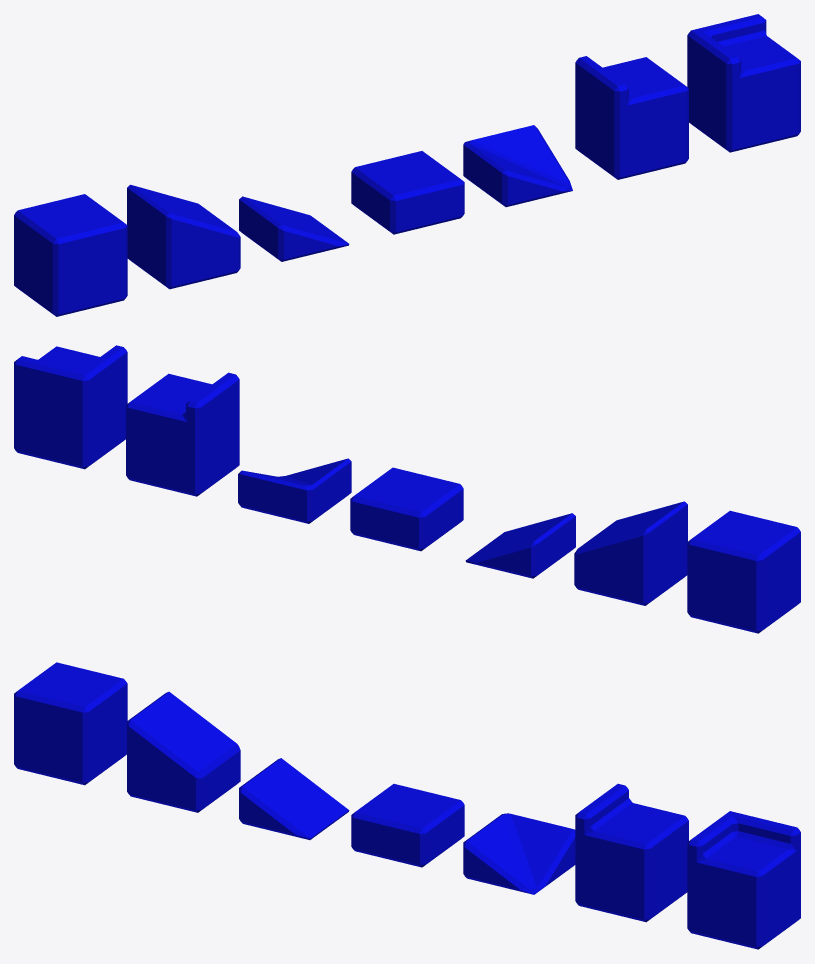
The model's file is worldblocks_v1.glb.
3 renders of one model, top to bottom at view 1: azimuth 30°, elevation 25°; view 2: azimuth 150°, elevation 25°; view 3: azimuth 330°, elevation 25°, orthographic.
Parts seen in each view (by area): view 1: BlockWallCorner, BlockWall, Block, RampTop, BlockShort, RampLowerCorner, RampBottom; view 2: BlockWallCorner, BlockWall, Block, RampTop, BlockShort, RampLowerCorner, RampBottom; view 3: BlockWallCorner, BlockWall, Block, RampTop, BlockShort, RampLowerCorner, RampBottom.
Boxes of the visible parts, x1,y1,x2,y2 form: BlockWallCorner: (687,14,800,152); BlockWall: (575,56,688,179); Block: (14,194,127,316); RampTop: (127,184,240,289); BlockShort: (351,151,464,234); RampLowerCorner: (463,125,572,207); RampBottom: (239,196,349,261); BlockWallCorner: (14,345,127,469); BlockWall: (126,372,239,496); Block: (687,510,800,633); RampTop: (574,501,687,605); BlockShort: (350,467,463,551); RampLowerCorner: (238,458,351,523); RampBottom: (465,513,575,578); BlockWallCorner: (687,811,800,949); BlockWall: (575,783,688,922); Block: (14,662,127,785); RampTop: (127,691,240,812); BlockShort: (351,784,464,867); RampLowerCorner: (463,813,575,894); RampBottom: (239,758,349,839).
Size of what is drawn, in the model's own units: 20.03 by 2.4 by 2.
